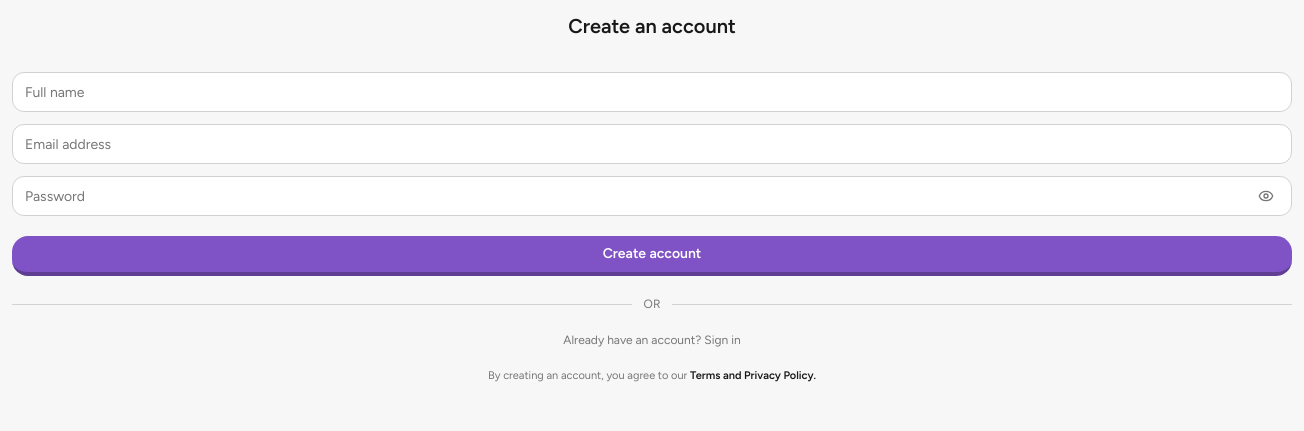
SignupForm › goes by the error type, not by its text
Type "Ada Lovelace" into the field with placeholder "Full name" at (652, 92), box [12,72,1292,112]
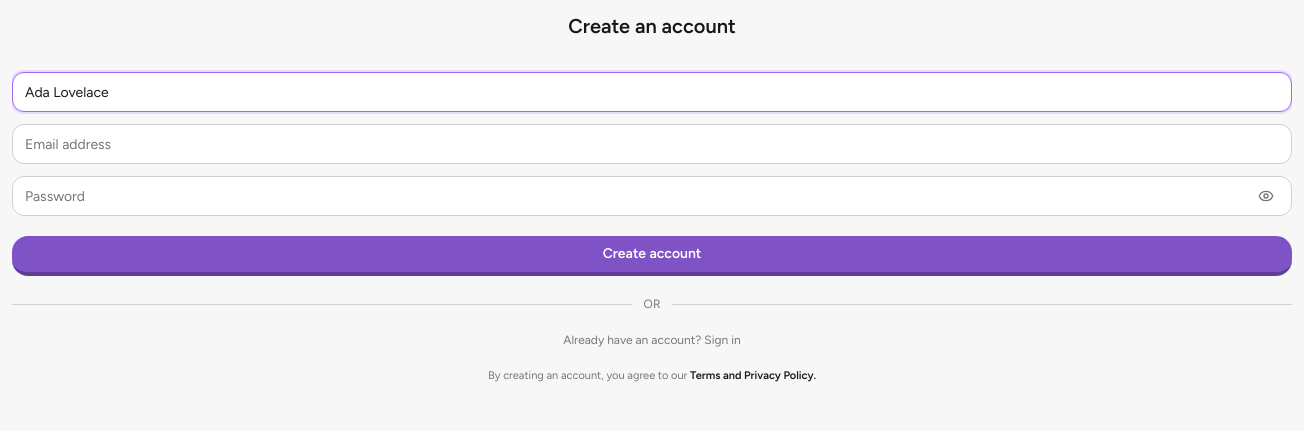
Type "ada@example.com" into the field with placeholder "Email address" at (652, 144), box [12,124,1292,164]
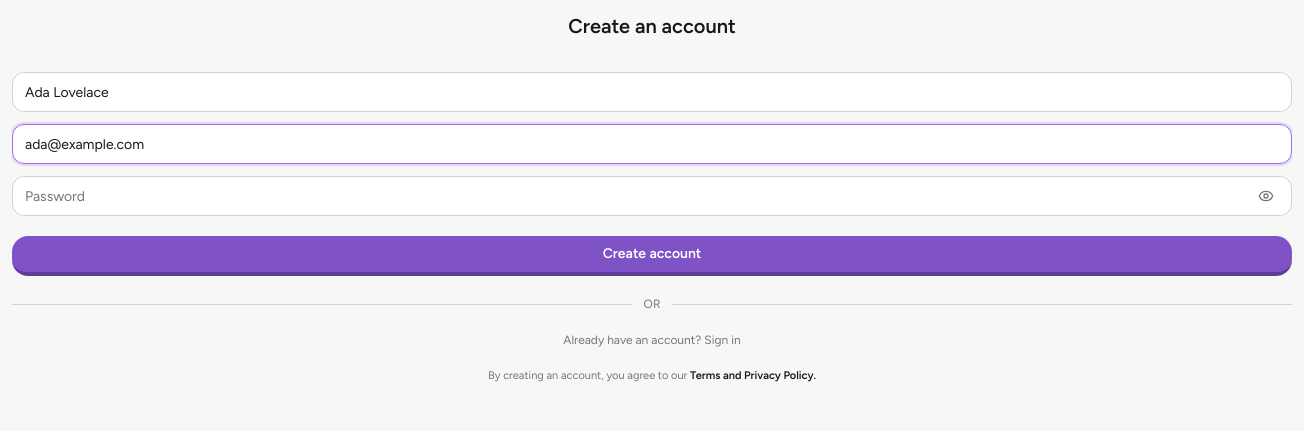
Type "password123" into the password field with placeholder "Password" at (652, 196), box [12,176,1292,216]
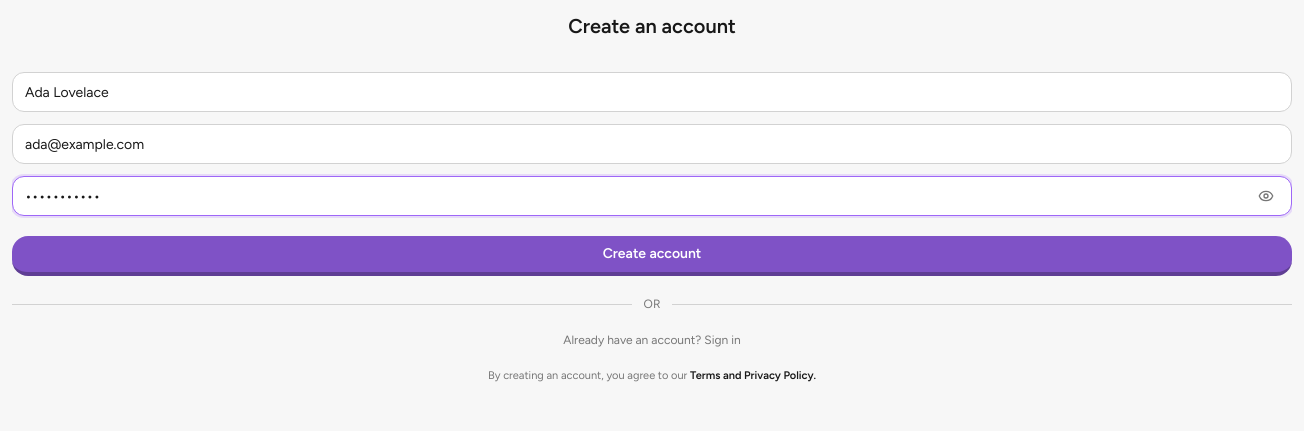
Click the button "Create account" at (652, 256), box [12,236,1292,276]
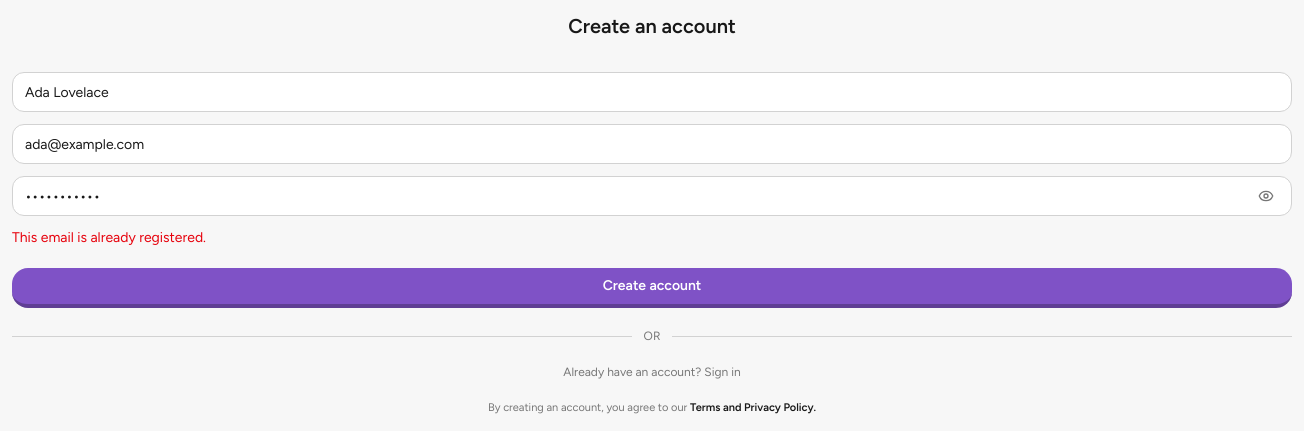
expect the message "This email is already registered." is shown: met, box [12,229,206,246]
